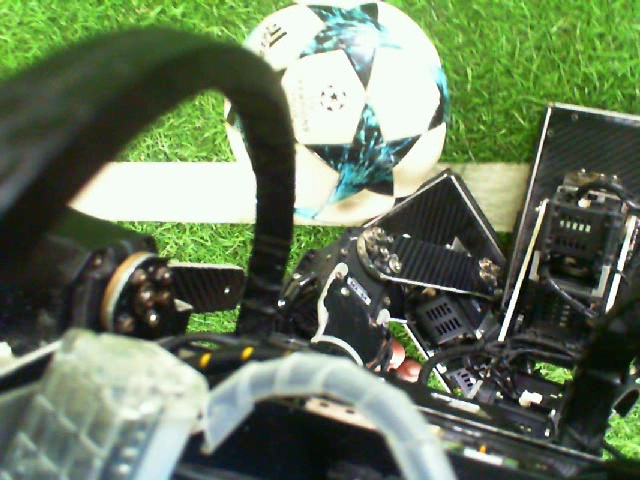ball: (269, 1, 449, 227)
